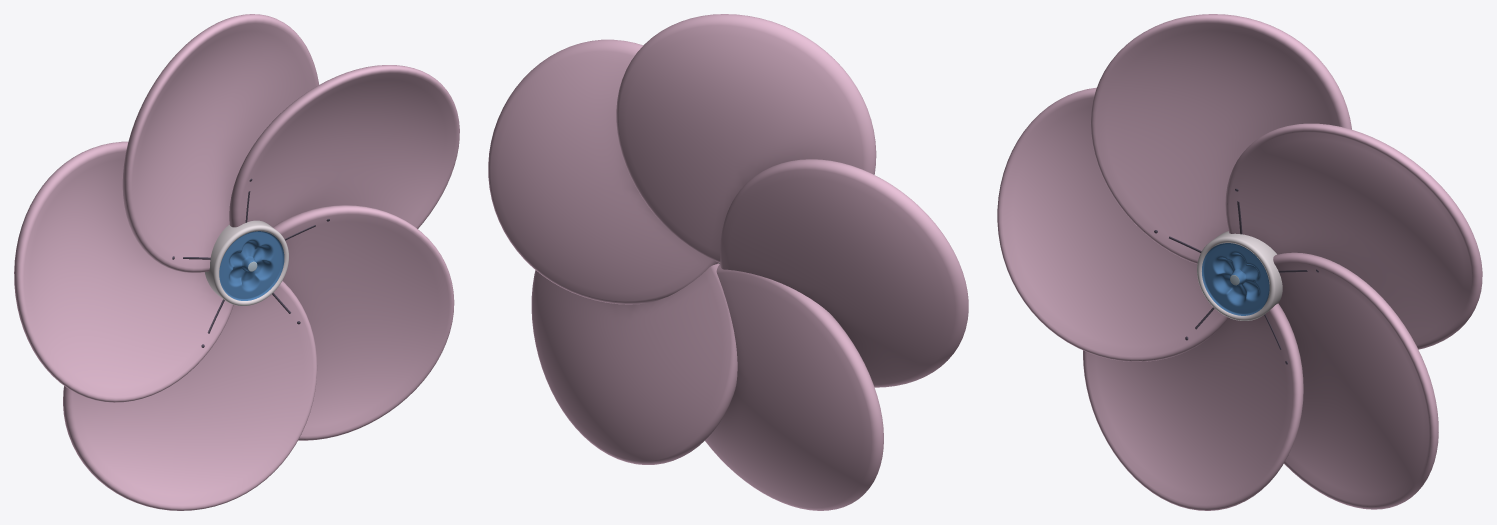
Rendered from flower-web.glb.
3 views of the same model, side by side, from view 1: azimuth 30°, elevation 25°; view 2: azimuth 150°, elevation 25°; view 3: azimuth 330°, elevation 25° (orthographic). The views are drawn at different scales.
Parts seen in each view (by area): view 1: Flower.001; view 2: Flower.001; view 3: Flower.001.
Part boxes in pixels (x1,y1,x2,y2): Flower.001: (14,14,459,510); Flower.001: (488,14,968,510); Flower.001: (997,14,1482,510).
Bounding box in the file's own units: 1.94 × 1.94 × 0.2685.
